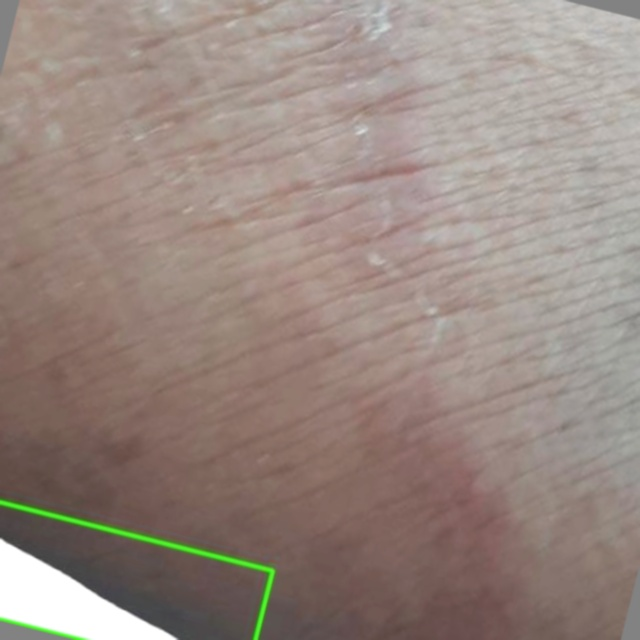Tinea Corporis: (0, 502, 273, 639)
